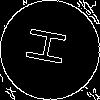H: (25, 25, 77, 70)
